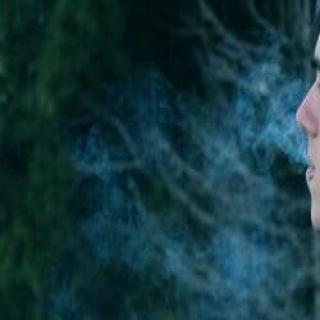smoke: (180, 75, 298, 308)
